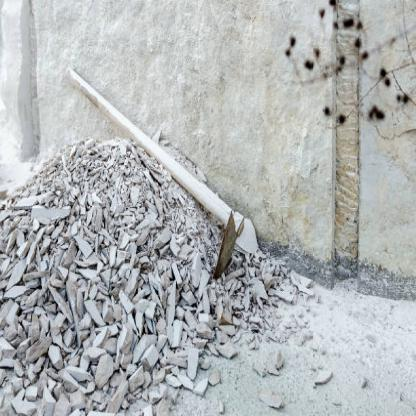Sedimentary_Limestone: (121, 218, 167, 325), (36, 213, 104, 281), (28, 302, 90, 374)
